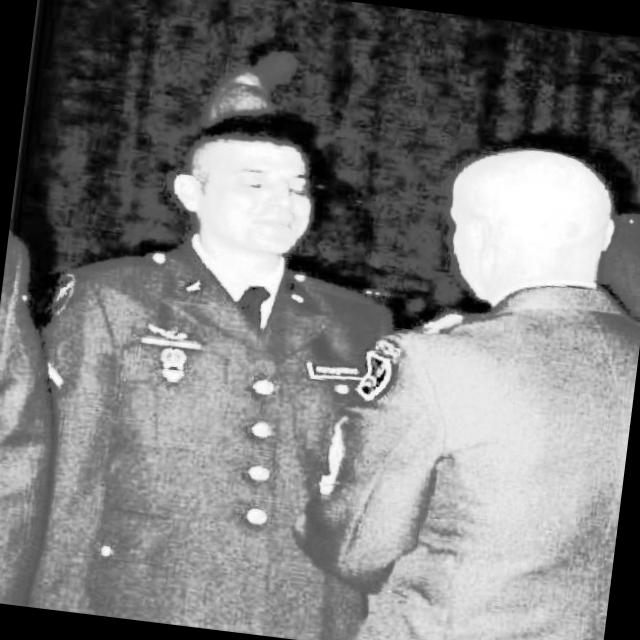Person: (0, 98, 420, 640), (286, 117, 640, 640)
